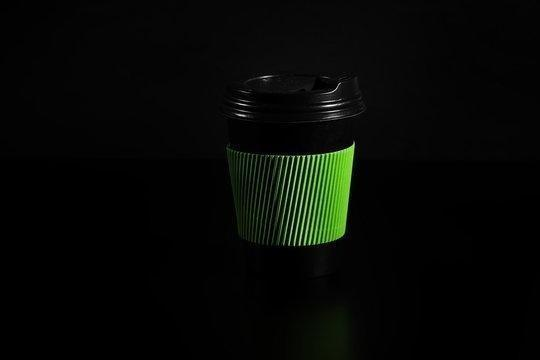cup-disposable: (217, 66, 368, 250)
